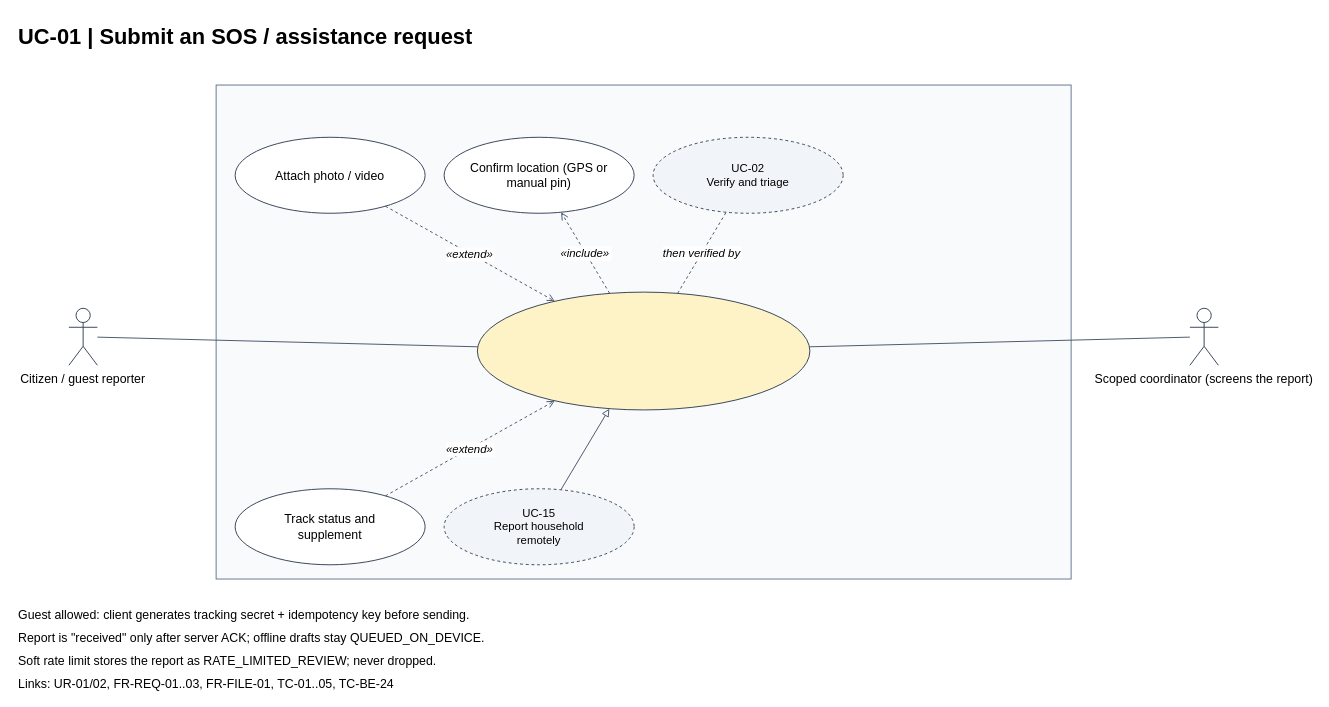
Some shapes in this 1329 by 707 pixel diagram are drawn without their labels. The box of each missing label's shape, as (x1, y1, x2, y2) in pixels:
C48 system: (215, 84, 1071, 579)
UC-01 Submit an SOS / assistance request: (476, 291, 810, 410)
